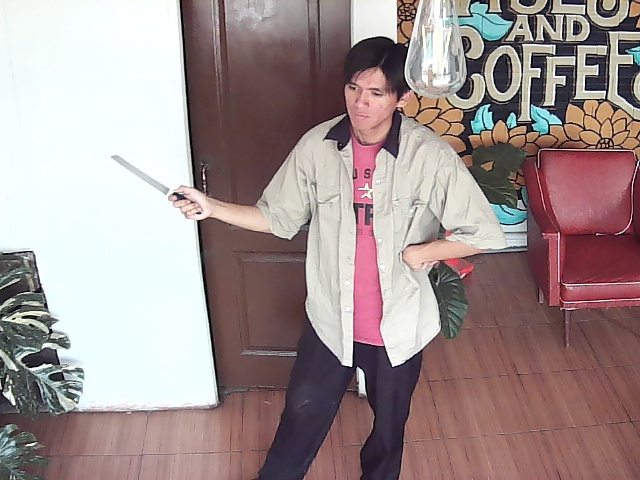cuchillo: (103, 148, 200, 217)
